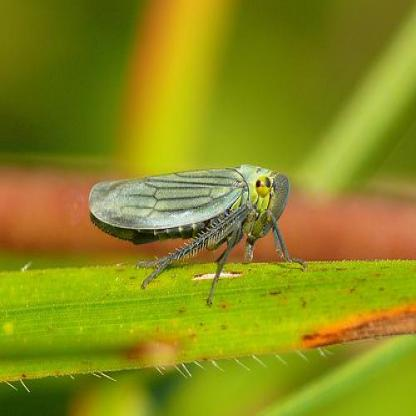Green-Leafhopper: (82, 163, 306, 302)
